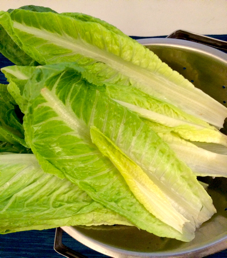chopped lettuce: (6, 13, 211, 229)
